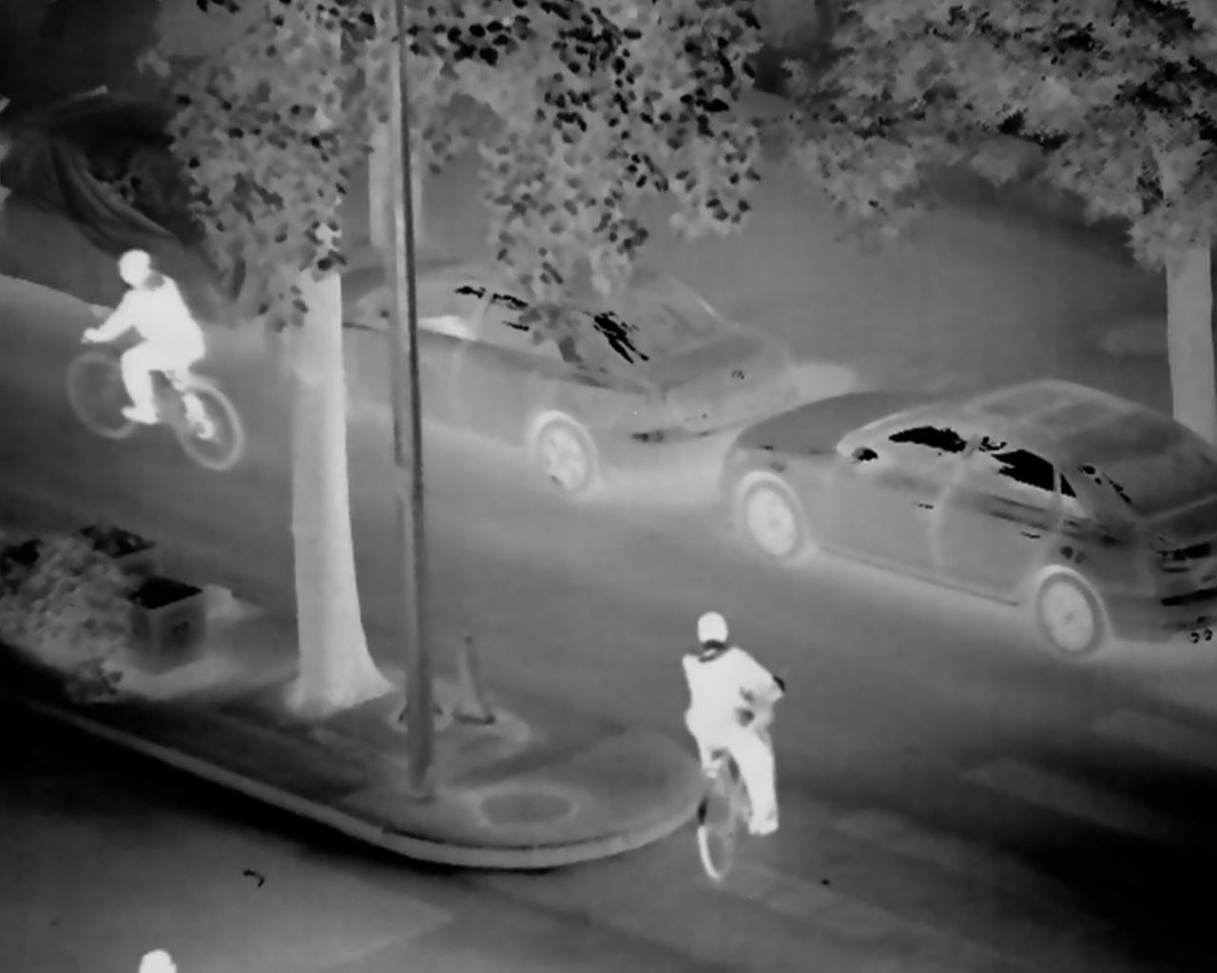person: (74, 246, 216, 449), (670, 604, 791, 838), (134, 945, 176, 973)
